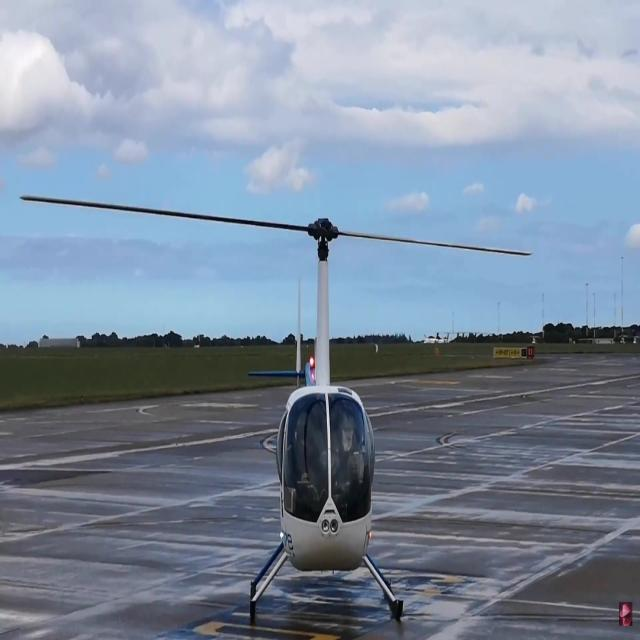CIV_HELO: (249, 212, 404, 624)
